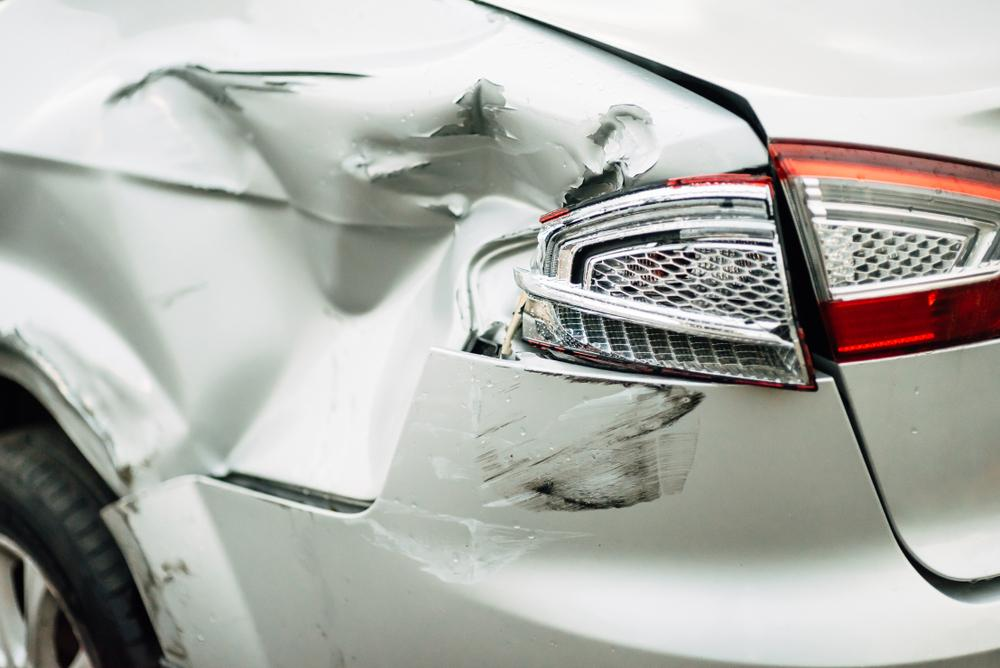dent: (101, 67, 660, 501)
lamp broken: (515, 173, 819, 392)
scratch: (365, 349, 702, 579), (101, 492, 200, 668)
